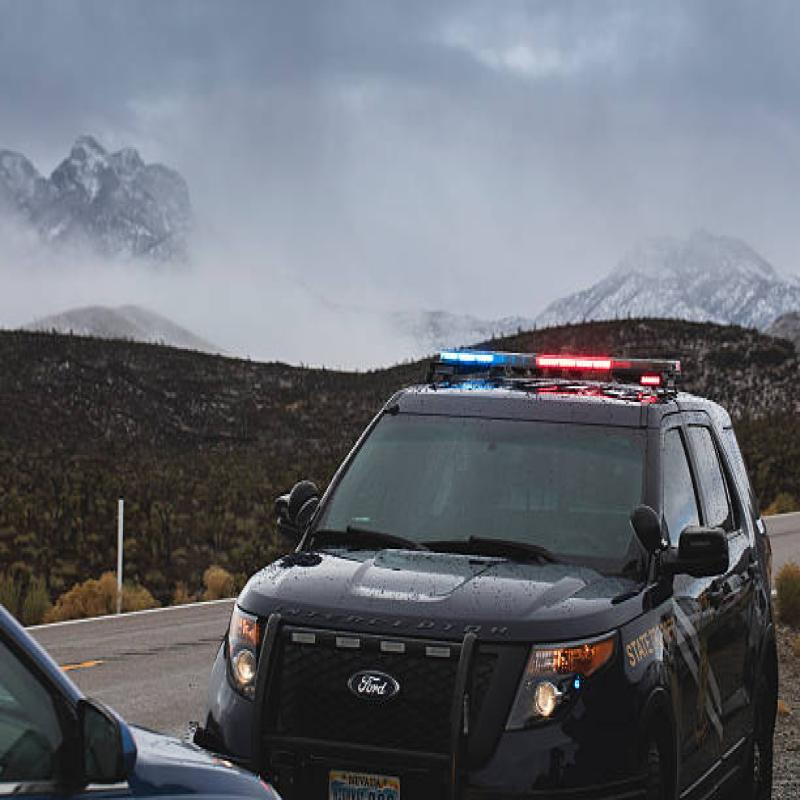AmbulanceSiren: (421, 332, 691, 402)
